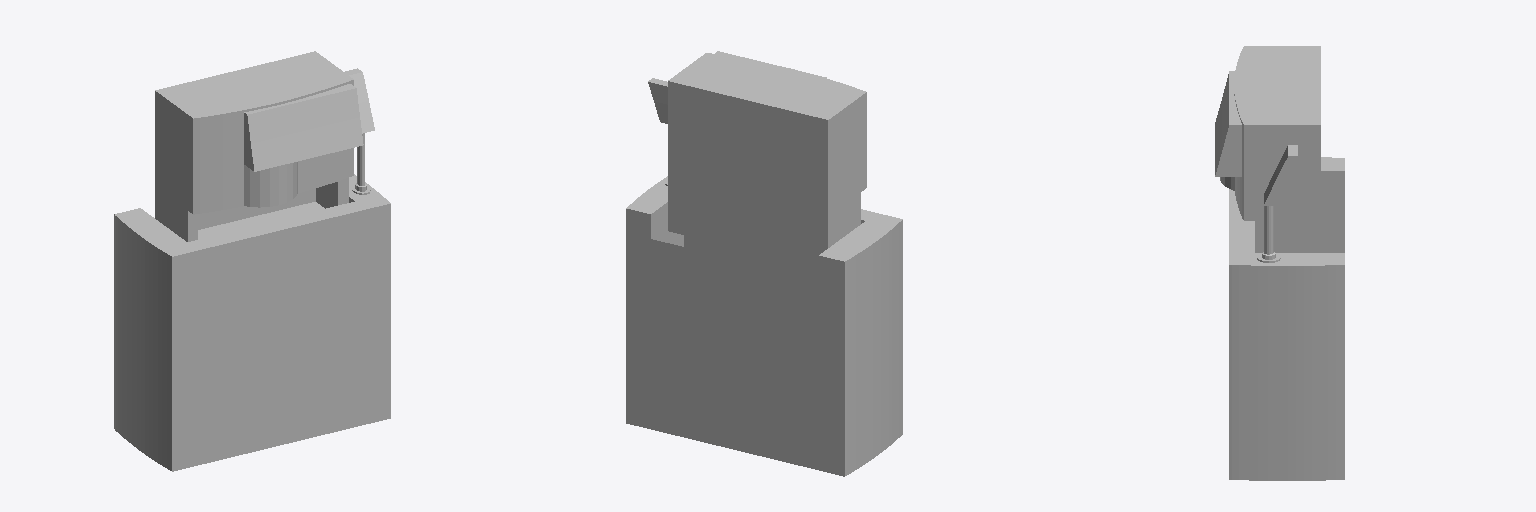
File: CLINITEK Novus.obj
3 views of the same model, side by side, from view 1: azimuth 30°, elevation 25°; view 2: azimuth 150°, elevation 25°; view 3: azimuth 270°, elevation 25° (orthographic).
Parts seen in each view (by area): view 1: object9, object1, object8, object5, object4, object3, object6, object2, object7; view 2: object9, object2, object8, object1, object3; view 3: object8, object1, object3, object5.
Part boxes in pixels (x1,y1,x2,y2): object9: (172,204,390,471); object1: (115,51,390,256); object8: (114,174,388,470); object5: (247,88,363,171); object4: (193,105,269,214); object3: (155,91,337,241); object6: (244,162,297,207); object2: (198,189,315,229); object7: (349,72,374,133); object9: (626,209,844,476); object2: (668,81,827,267); object8: (627,176,902,475); object1: (626,51,902,261); object3: (828,97,860,247); object8: (1229,157,1344,480); object1: (1215,46,1344,264); object3: (1255,125,1320,252); object5: (1215,74,1228,174).
Size of the model in its own units: 41.07 by 59.65 by 20.59.